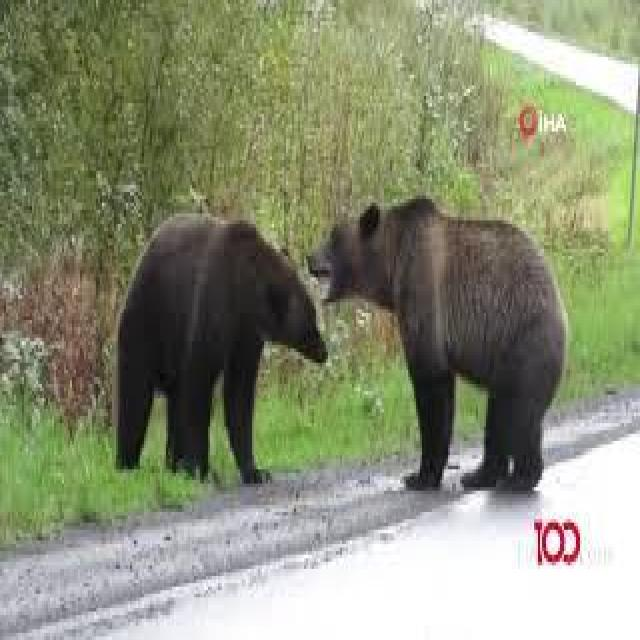Bear: (312, 196, 572, 498), (112, 213, 330, 487)
